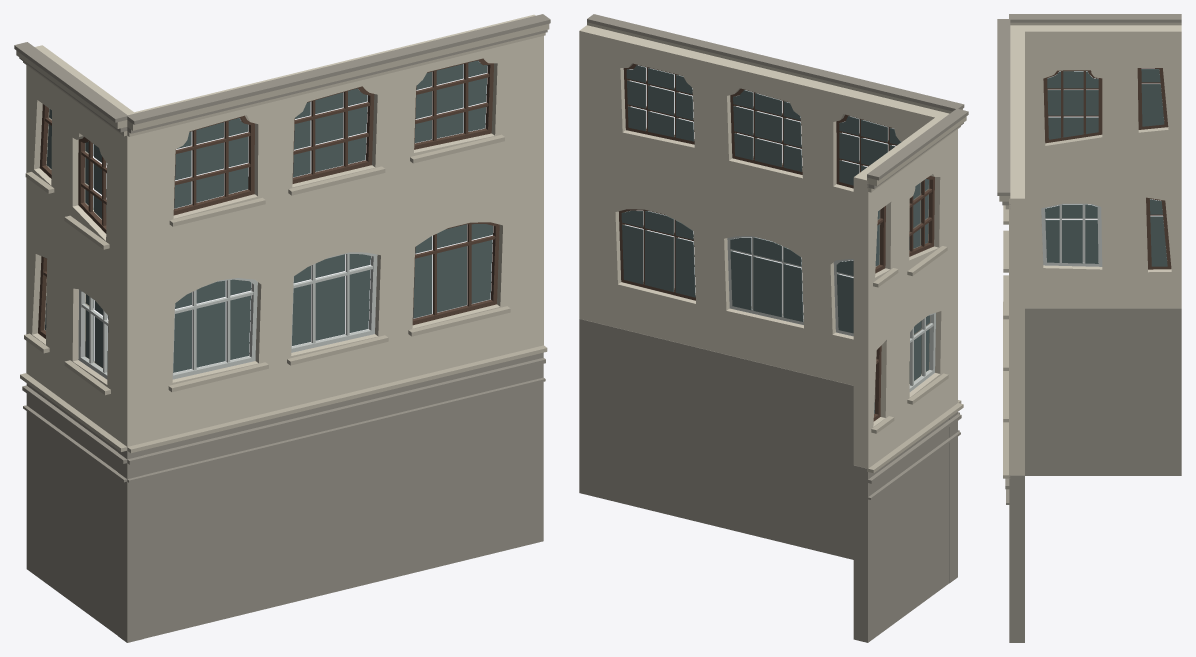
File: full-source.glb
3 renders of one model, left to right at view 1: azimuth 30°, elevation 25°; view 2: azimuth 150°, elevation 25°; view 3: azimuth 270°, elevation 25°, orthographic. The views are drawn at different scales.
Visible parts, largest first — view 1: 愚园路1112弄4号蒋光鼐旧居; view 2: 愚园路1112弄4号蒋光鼐旧居; view 3: 愚园路1112弄4号蒋光鼐旧居.
Boxes of the visible parts, <box> form: 愚园路1112弄4号蒋光鼐旧居: <box>14,14,550,642</box>; 愚园路1112弄4号蒋光鼐旧居: <box>579,14,968,642</box>; 愚园路1112弄4号蒋光鼐旧居: <box>997,14,1181,642</box>.
Size of the model in its own units: 9.72 by 11.42 by 4.24.
